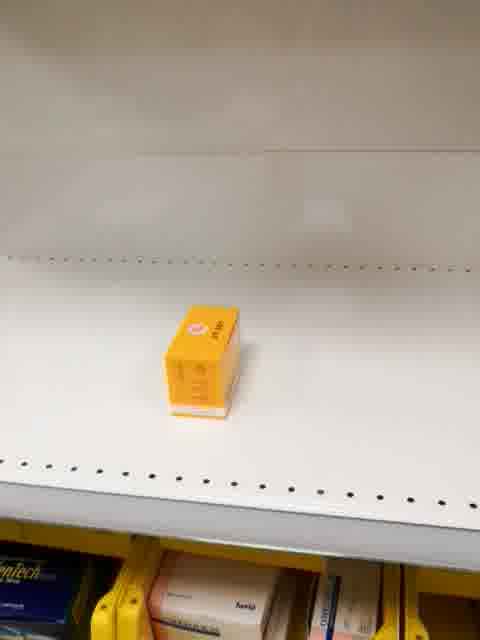jasminetea: (164, 305, 244, 420)
